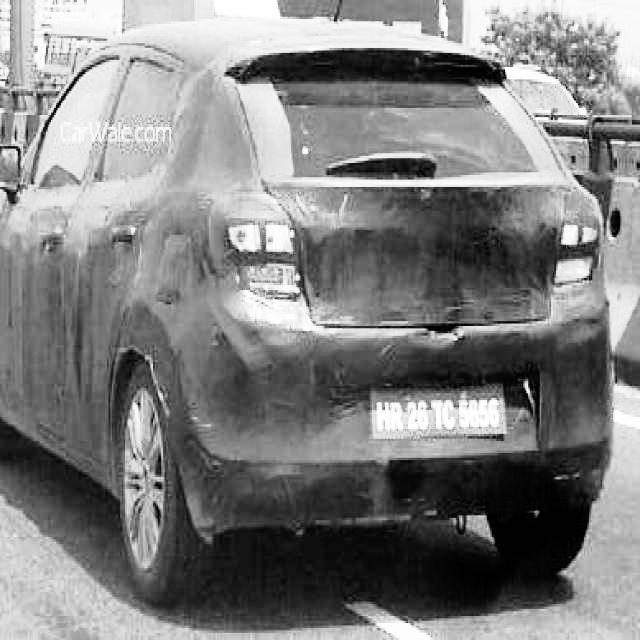Car: (13, 21, 608, 640)
